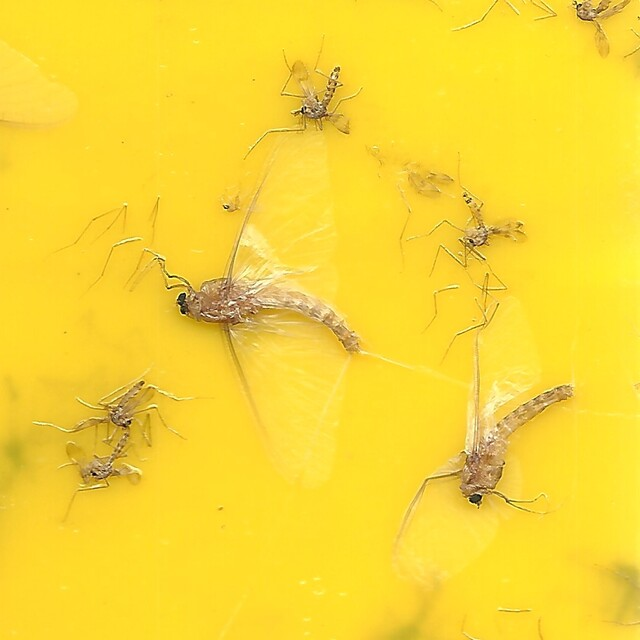Ephemeroptera: (169, 128, 375, 476), (392, 289, 579, 582)
Nematocera: (451, 189, 534, 267), (283, 58, 352, 136), (61, 429, 139, 493), (97, 378, 159, 436)
